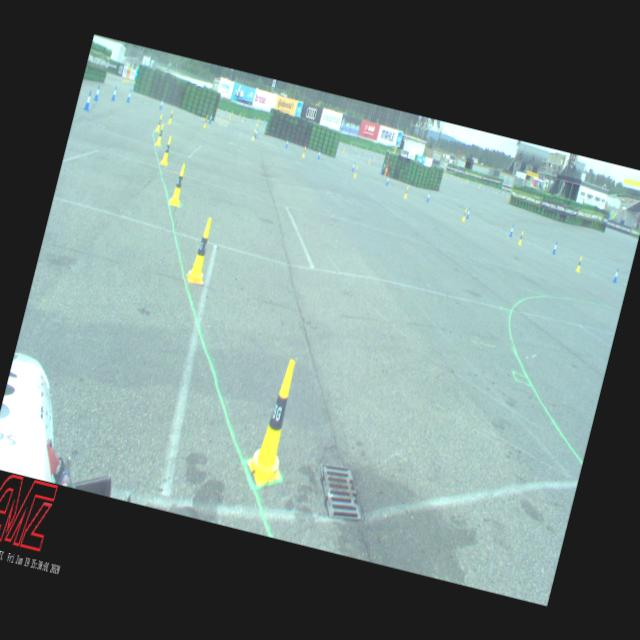blue_cone: (83, 90, 93, 111), (93, 84, 101, 101), (111, 86, 118, 100), (125, 88, 132, 102), (612, 268, 619, 282), (552, 241, 558, 254), (158, 98, 164, 110), (208, 112, 214, 124), (508, 224, 514, 236), (386, 174, 390, 186), (466, 206, 470, 218), (254, 127, 258, 138), (426, 191, 430, 202), (317, 150, 321, 160), (351, 162, 355, 172)
yellow_cone: (242, 355, 308, 489), (184, 216, 218, 284), (168, 162, 188, 207), (160, 135, 174, 166), (155, 122, 165, 146), (155, 114, 163, 132), (575, 256, 583, 272), (167, 110, 174, 124), (518, 230, 524, 245), (202, 115, 208, 128), (403, 186, 409, 198), (461, 208, 467, 220), (353, 165, 358, 178), (251, 129, 256, 140), (302, 146, 306, 158)
